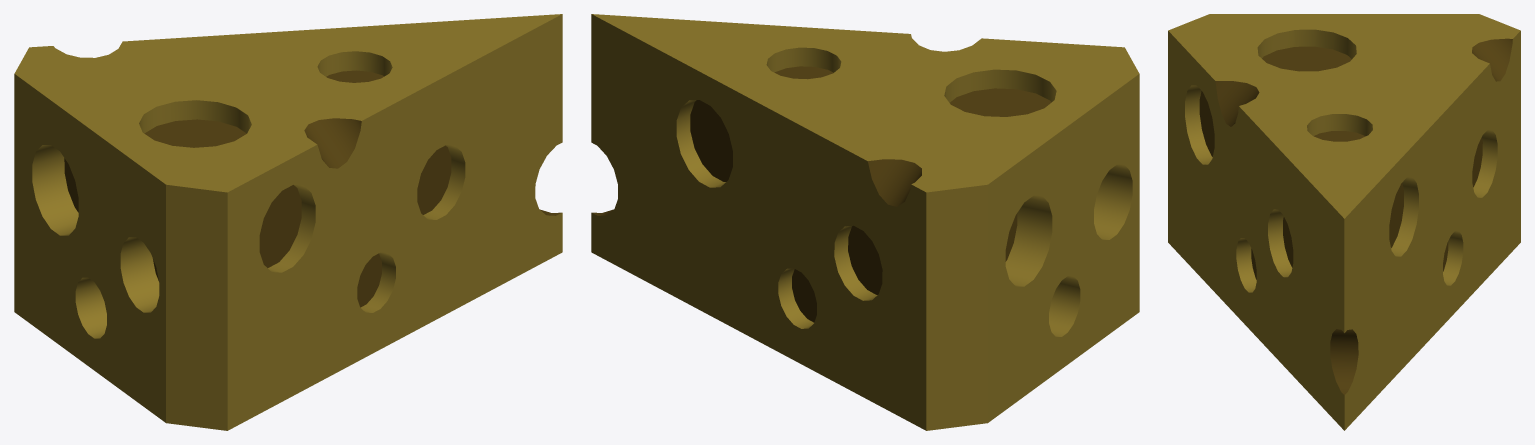
File: cheese.fbx
3 views of the same model, side by side, from view 1: azimuth 30°, elevation 25°; view 2: azimuth 150°, elevation 25°; view 3: azimuth 270°, elevation 25° (orthographic). The views are drawn at different scales.
Visible parts, largest first — view 1: Cube.002; view 2: Cube.002; view 3: Cube.002.
Boxes of the visible parts, <box> form: Cube.002: <box>14,14,562,430</box>; Cube.002: <box>591,14,1139,430</box>; Cube.002: <box>1168,14,1520,430</box>.
Size of the model in its own units: 275 by 133 by 200.
